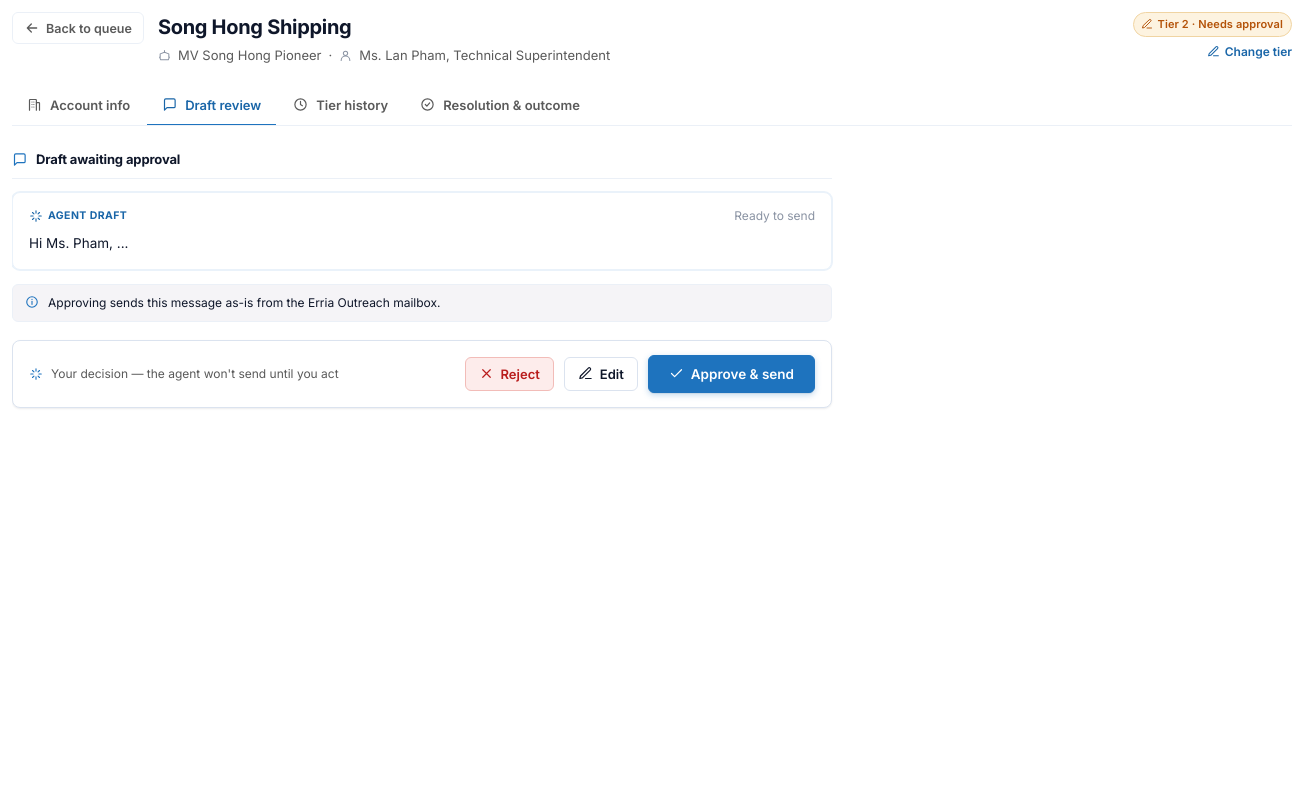
Test: AccountDetailPage › defaults to the work tab and switches tabs on click
Check: the heading "Song Hong Shipping" is shown, box [158,15,351,39]
Step 1. Click the button "Account info" → (79, 106), box [12,86,145,126]
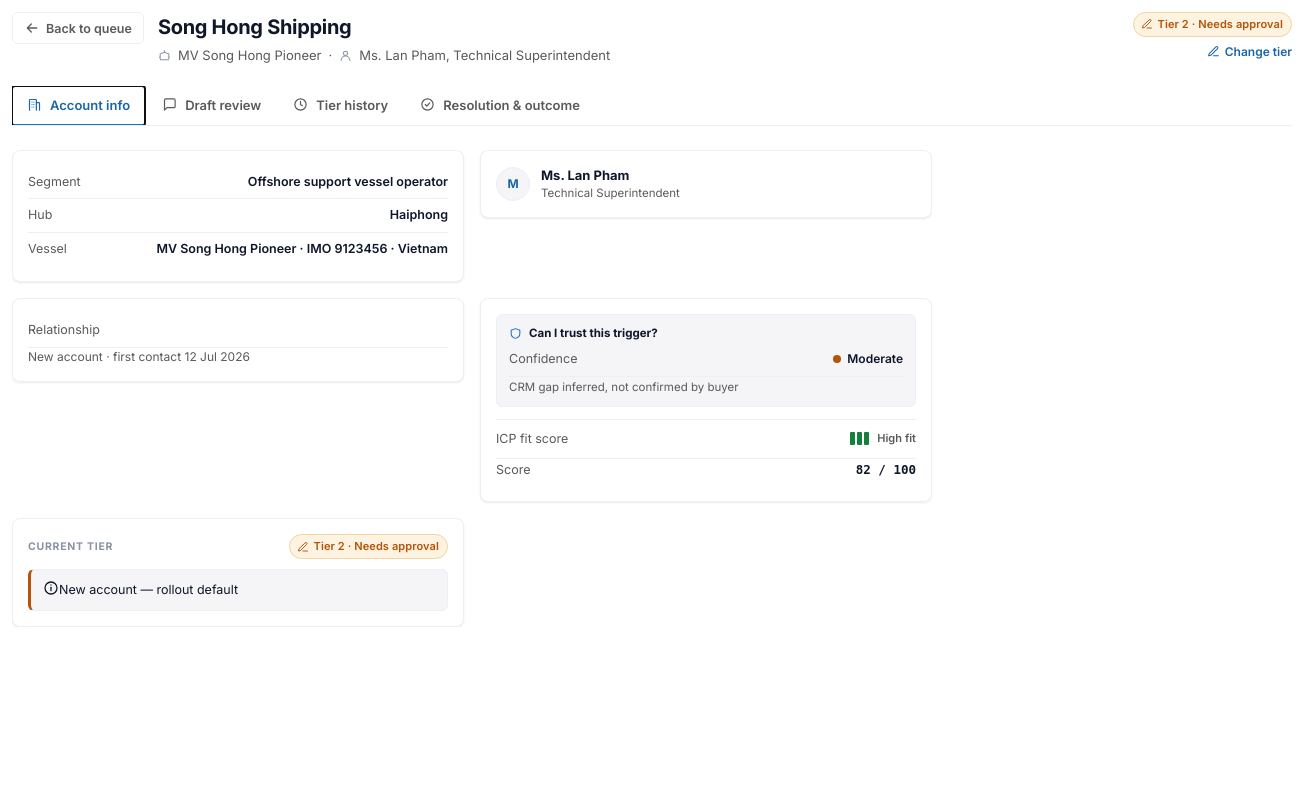
Check: the text "MV Song Hong Pioneer" is shown, box [178,46,322,66]
Check: the text "Hi Ms. Pham" is gone
Step 2. Click the button "Tier history" → (341, 106), box [278,86,403,126]
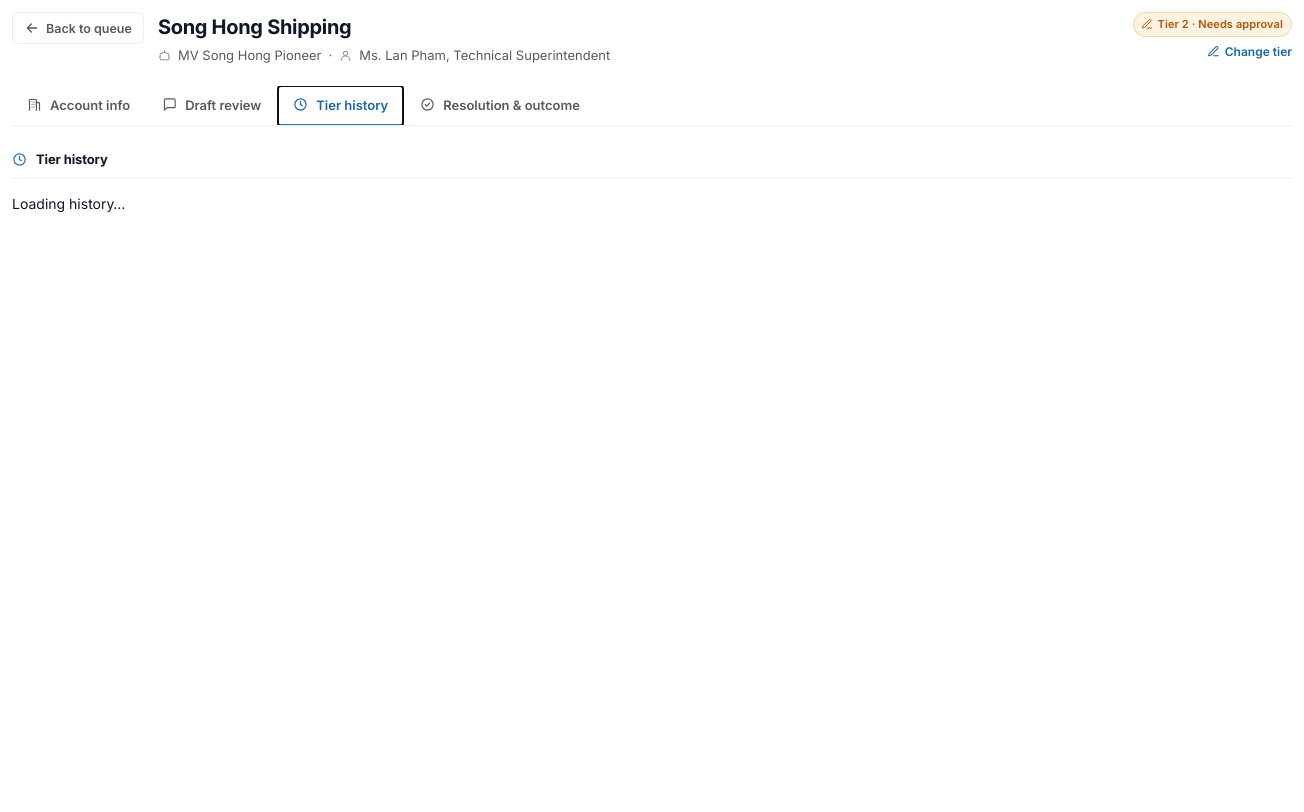
Check: the element showing "Tier history Loading history…" is shown, box [12,150,1292,214]
Step 3. Click the button "Resolution & outcome" → (500, 106), box [405,86,595,126]
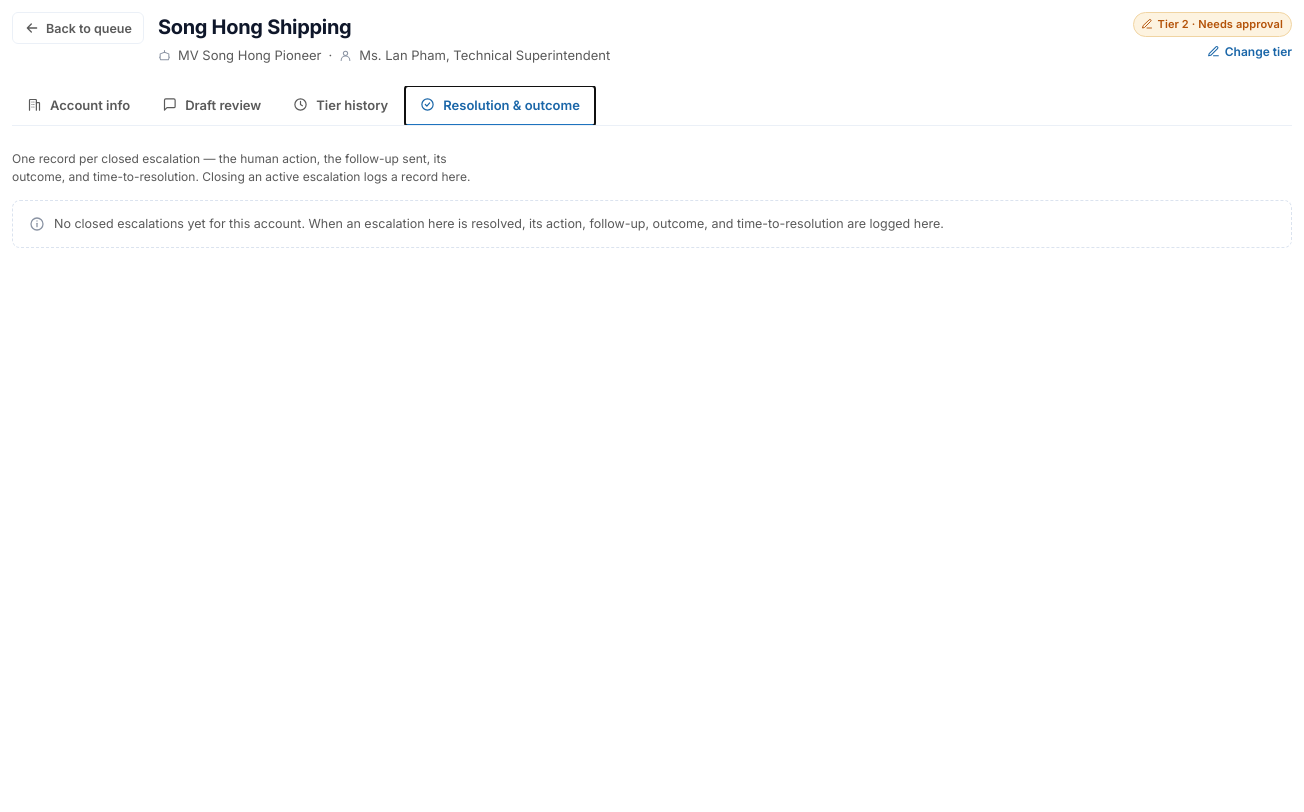
Check: the text "No closed escalations yet" is shown, box [54,216,944,230]
